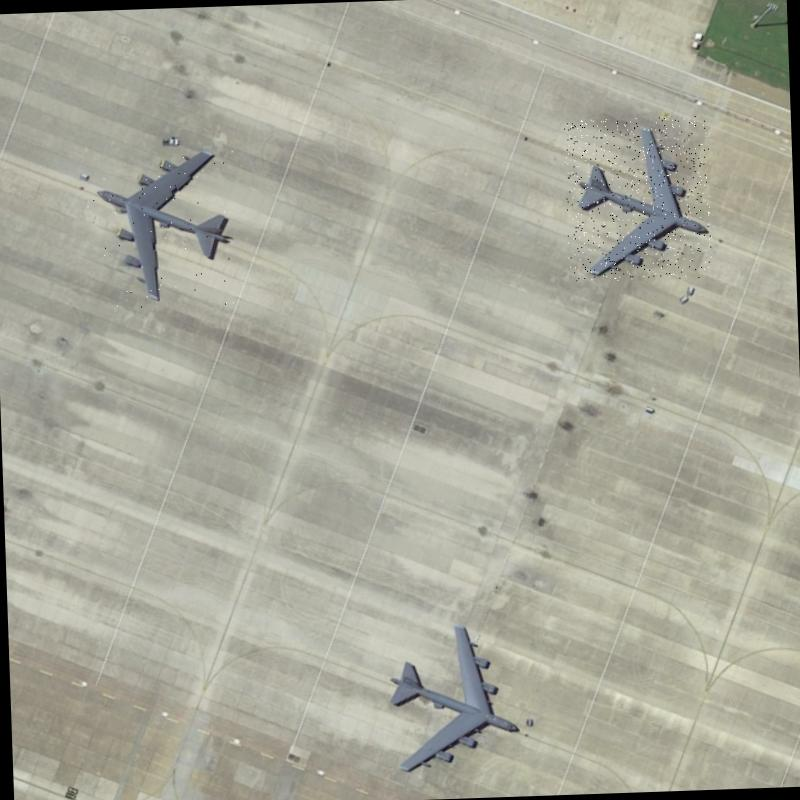A8: (84, 140, 242, 310), (373, 613, 525, 778), (563, 115, 713, 282)
